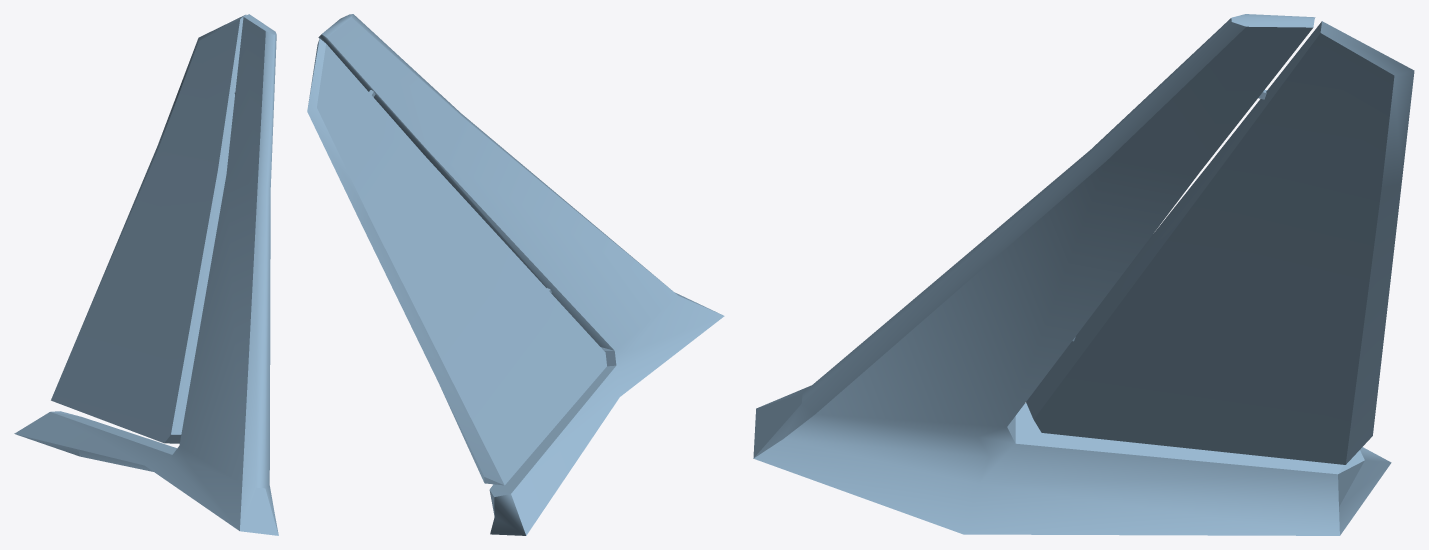
The model's file is keel dwn L.FBX.
3 views of the same model, side by side, from view 1: azimuth 30°, elevation 25°; view 2: azimuth 150°, elevation 25°; view 3: azimuth 270°, elevation 25° (orthographic). The views are drawn at different scales.
Parts seen in each view (by area): view 1: Group32; view 2: Group32; view 3: Group32.
Boxes of the visible parts, x1,y1,x2,y2 form: Group32: [14, 14, 278, 535]; Group32: [307, 14, 724, 535]; Group32: [753, 14, 1414, 535].
Size of the model in its own units: 0.0441 by 0.0749 by 0.0801.
